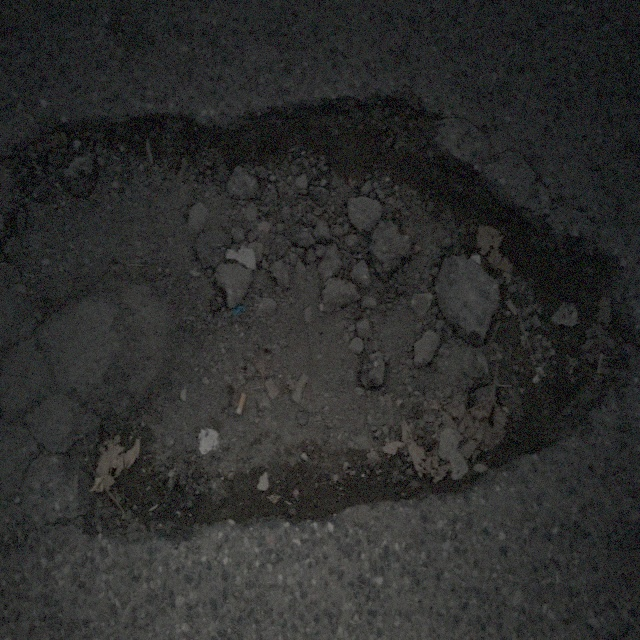pothole: (8, 85, 629, 550)
